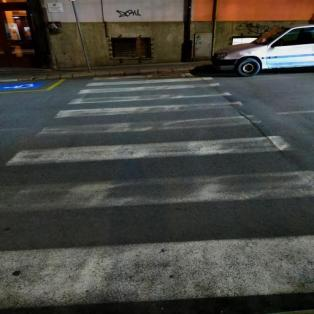Paso de Cebra: (0, 167, 314, 305), (37, 99, 273, 138)
